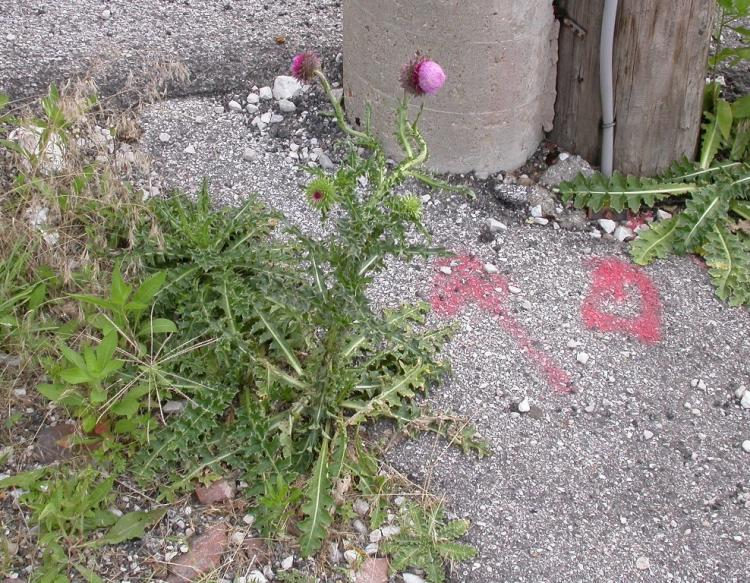thistle: (397, 54, 457, 102), (280, 49, 326, 89)
